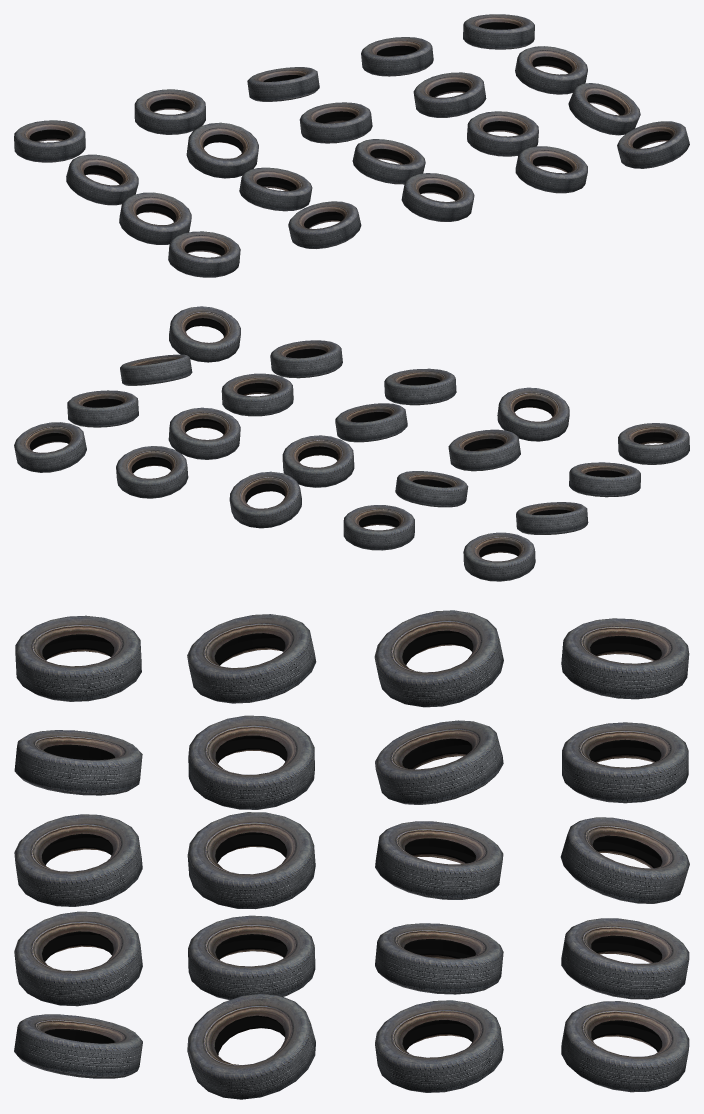
Rendered from Tire_Set21.fbx.
3 views of the same model, one above another, from view 1: azimuth 30°, elevation 25°; view 2: azimuth 150°, elevation 25°; view 3: azimuth 270°, elevation 25° (orthographic). The views are drawn at different scales.
Parts seen in each view (by area): view 1: Tire_Set2; view 2: Tire_Set2; view 3: Tire_Set2.
Boxes of the visible parts, x1,y1,x2,y2 form: Tire_Set2: [14, 14, 689, 277]; Tire_Set2: [14, 306, 689, 581]; Tire_Set2: [14, 610, 689, 1099].
Bounding box in the file's own units: 44.48 × 3.11 × 28.72.
1 material, 1 textured.
